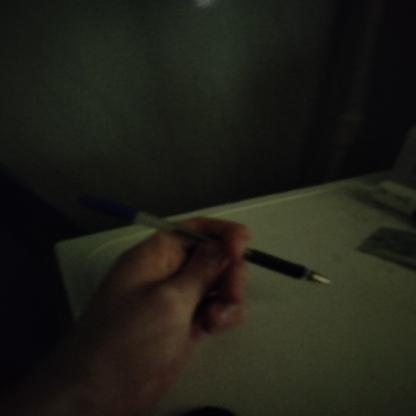pen: (72, 190, 342, 300)
